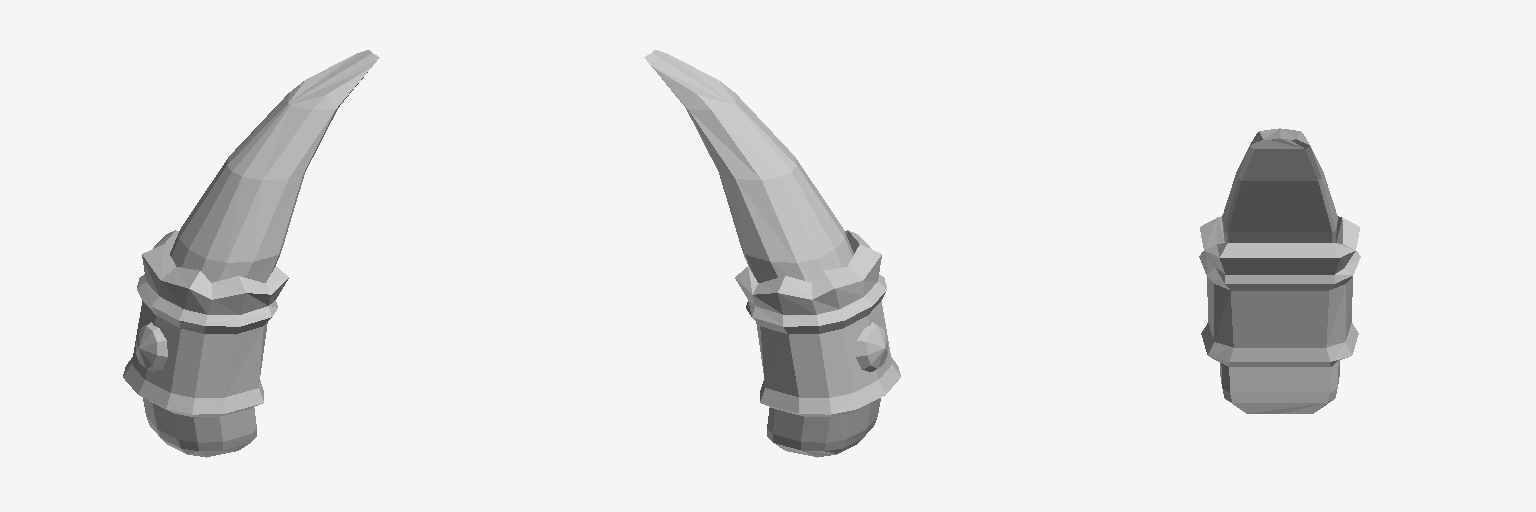
Rendered from character_barbarianArmRight.obj.
3 renders of one model, left to right at view 1: azimuth 30°, elevation 25°; view 2: azimuth 150°, elevation 25°; view 3: azimuth 270°, elevation 25°, orthographic.
Visible parts, largest first — view 1: character_barbarianArmRight_Cube.009; view 2: character_barbarianArmRight_Cube.009; view 3: character_barbarianArmRight_Cube.009.
Part boxes in pixels (x1,y1,x2,y2): character_barbarianArmRight_Cube.009: (123,50,379,457); character_barbarianArmRight_Cube.009: (644,50,900,457); character_barbarianArmRight_Cube.009: (1199,128,1360,413).
Bounding box in the file's own units: 0.4045 × 0.5708 × 0.2404.